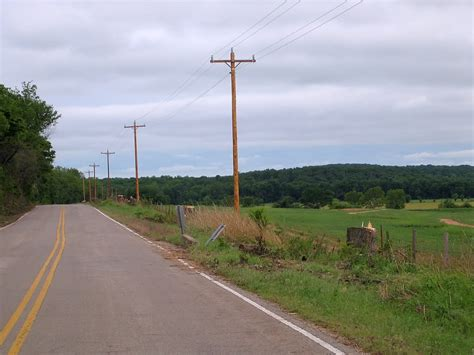pole: (202, 45, 268, 214), (118, 117, 156, 202), (85, 148, 119, 202)
